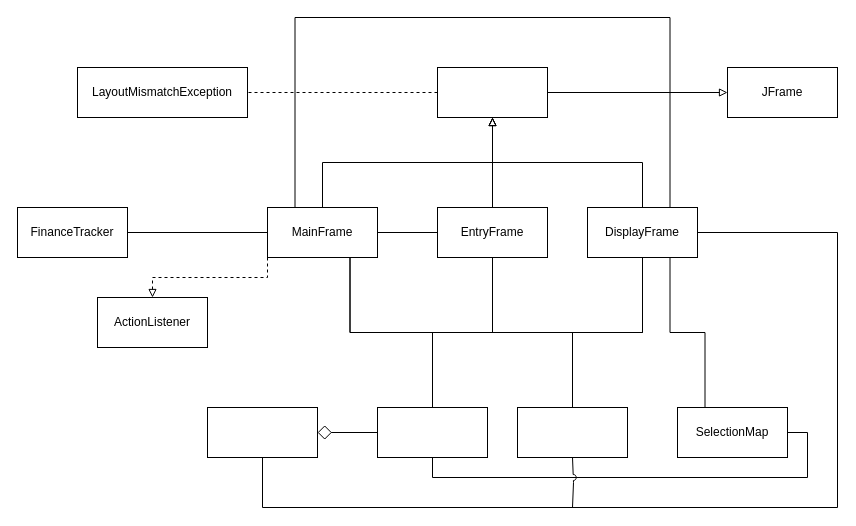
Some shapes in this 856 by 526 pixel diagram are drawn without their labels. Each missing label, with the centre of its shape:
AppFrame: the point at 492,92
Entires: the point at 262,432
Entry: the point at 432,432
FileManager: the point at 572,432
